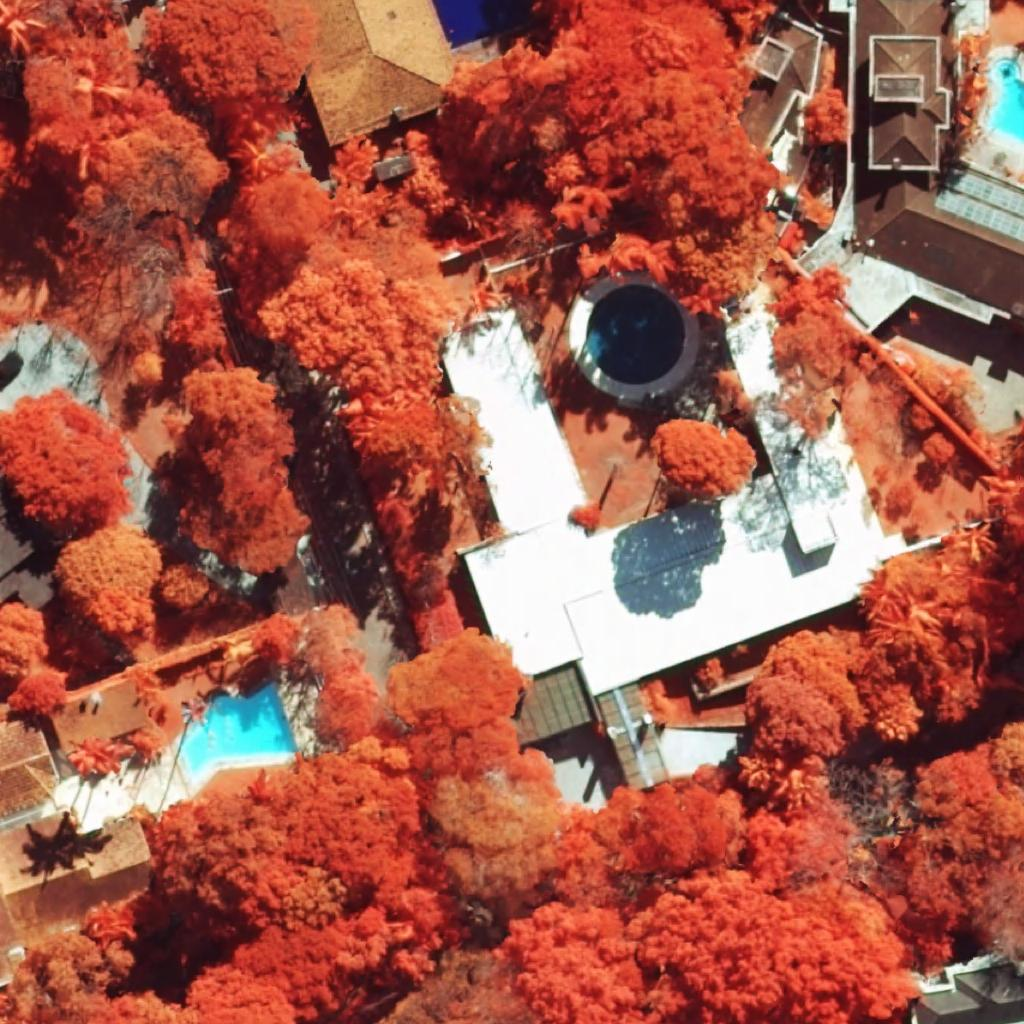pool: (182, 681, 298, 778), (585, 284, 686, 387), (432, 0, 534, 50), (986, 56, 1024, 142)
